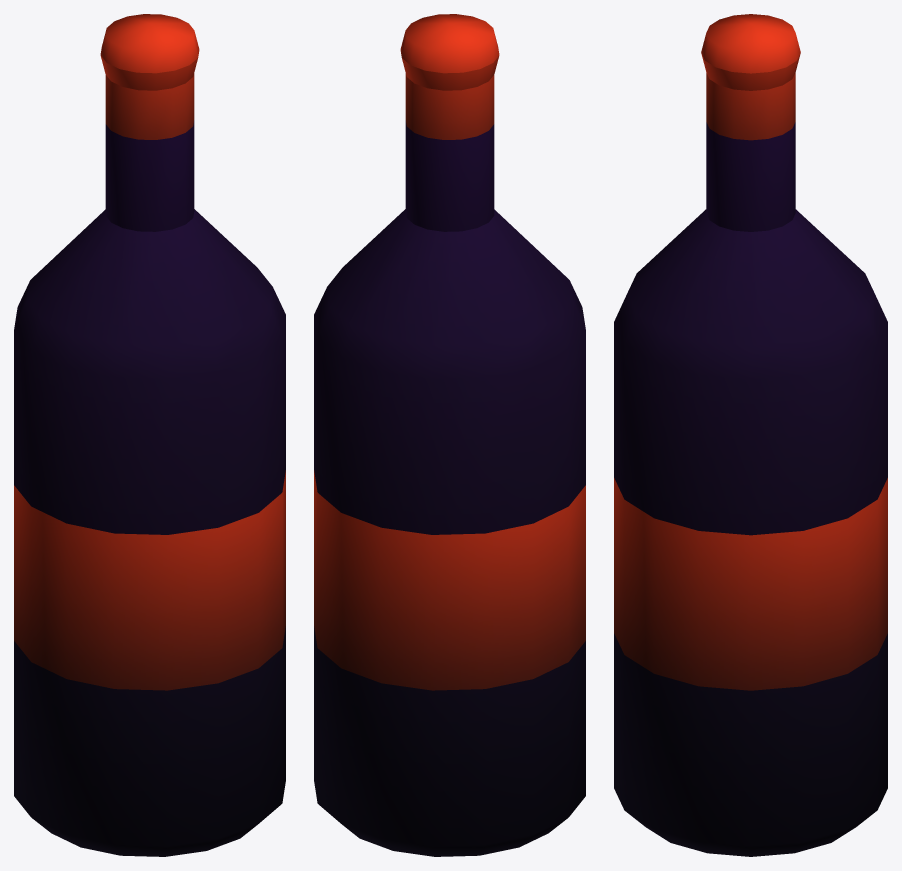
Rendered from WineBottle1.fbx.
3 views of the same model, side by side, from view 1: azimuth 30°, elevation 25°; view 2: azimuth 150°, elevation 25°; view 3: azimuth 270°, elevation 25° (orthographic).
Visible parts, largest first — view 1: Wine Bottle; view 2: Wine Bottle; view 3: Wine Bottle.
Boxes of the visible parts, x1,y1,x2,y2 form: Wine Bottle: (14, 14, 285, 856); Wine Bottle: (314, 14, 585, 856); Wine Bottle: (614, 14, 887, 856).
Bounding box in the file's own units: 20.58 × 65.07 × 20.58.
1 material, 1 textured.
